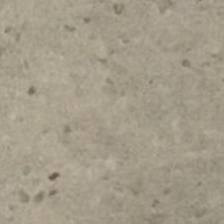Non_Crack: (28, 16, 214, 208)
